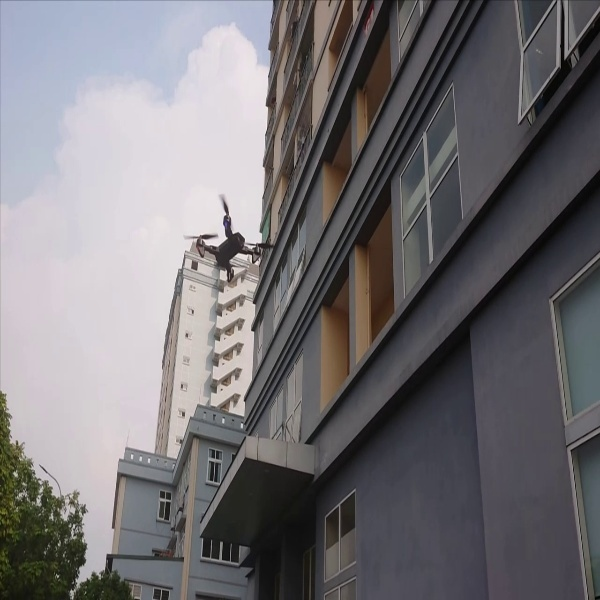drone: (183, 188, 281, 285)
